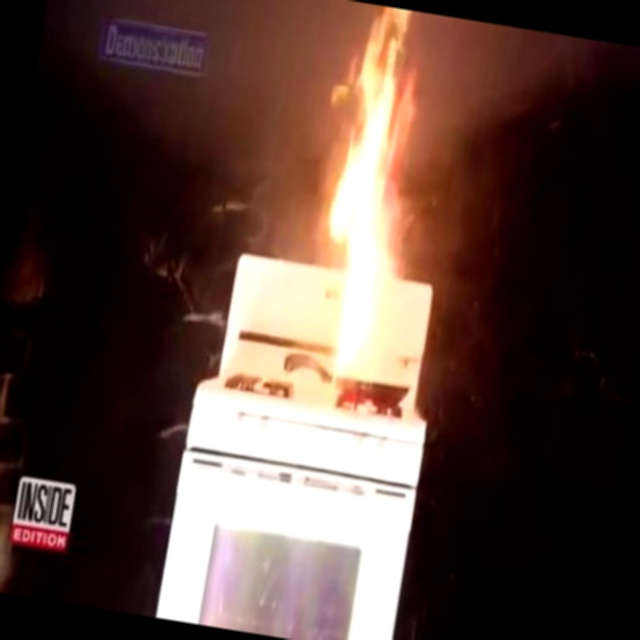fire: (248, 0, 500, 450)
